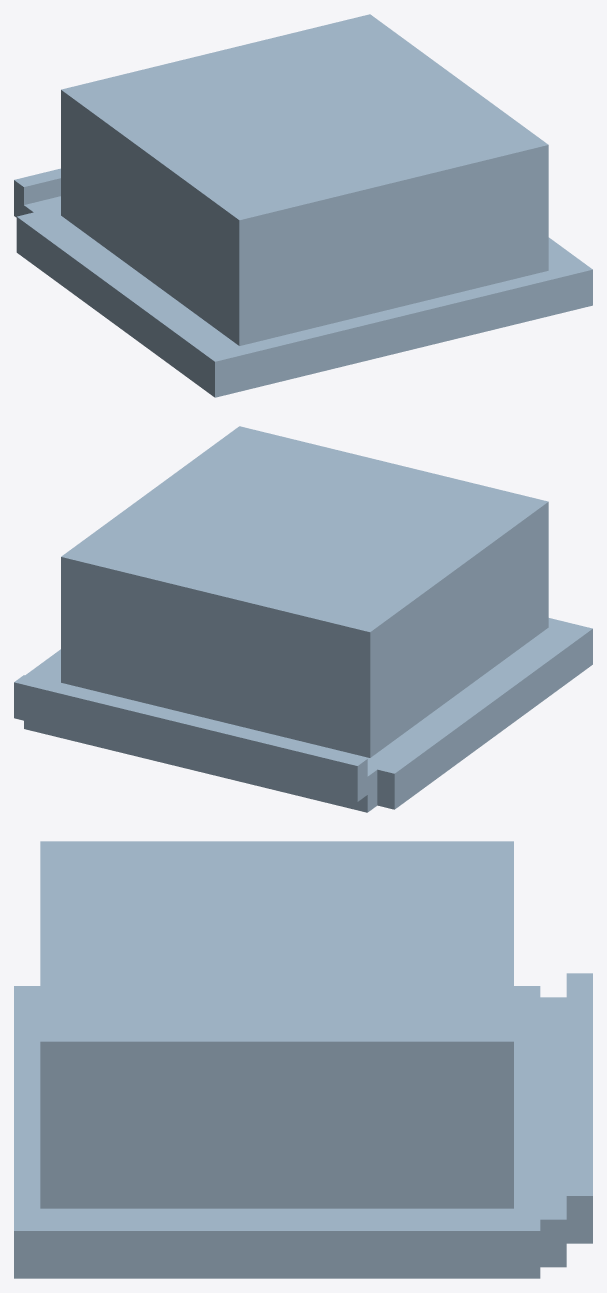
The picture shows the model from 3 angles, top to bottom: view 1: azimuth 30°, elevation 25°; view 2: azimuth 150°, elevation 25°; view 3: azimuth 270°, elevation 25°; orthographic projection. The views are drawn at different scales.
Size of the model in its own units: 1.1 by 0.45 by 1.1.
